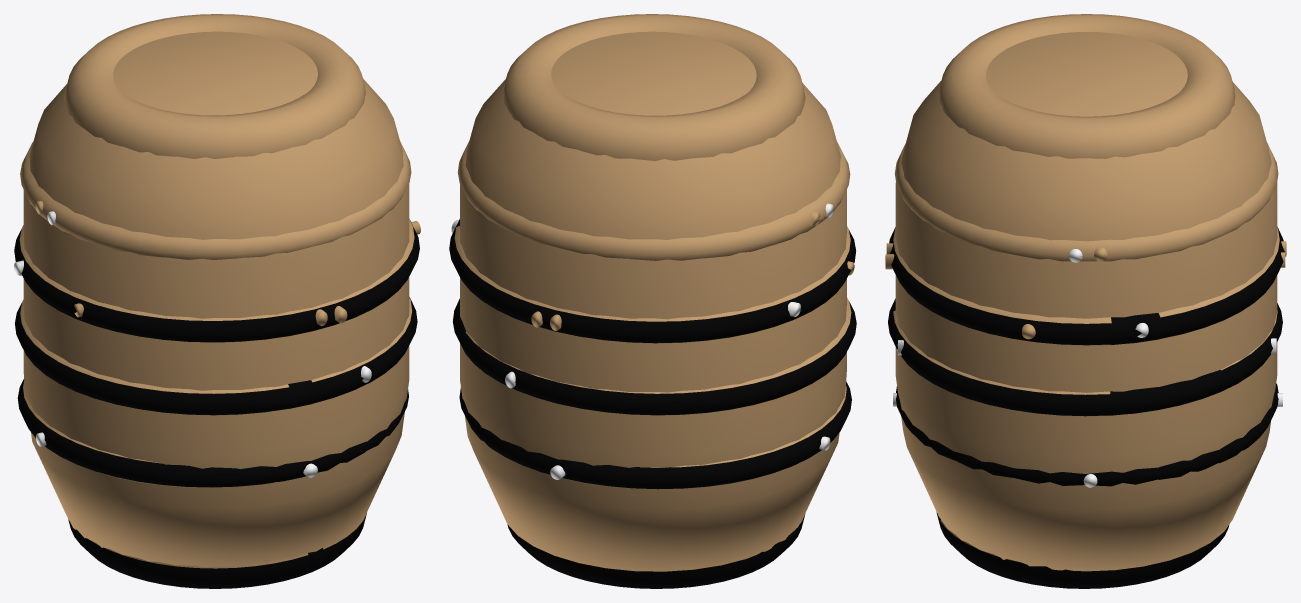
Rendered from barrell.glb.
3 views of the same model, side by side, from view 1: azimuth 30°, elevation 25°; view 2: azimuth 150°, elevation 25°; view 3: azimuth 270°, elevation 25° (orthographic).
Visible parts, largest first — view 1: Cylinder; view 2: Cylinder; view 3: Cylinder.
Boxes of the visible parts, x1,y1,x2,y2 form: Cylinder: (14, 14, 420, 588); Cylinder: (449, 14, 856, 588); Cylinder: (885, 14, 1286, 588).
Size of the model in its own units: 39.47 by 49.94 by 38.83.
